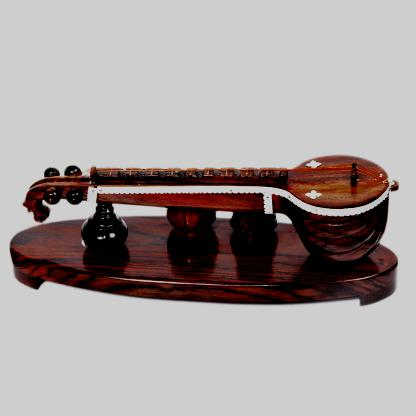Veena: (4, 150, 404, 310)
